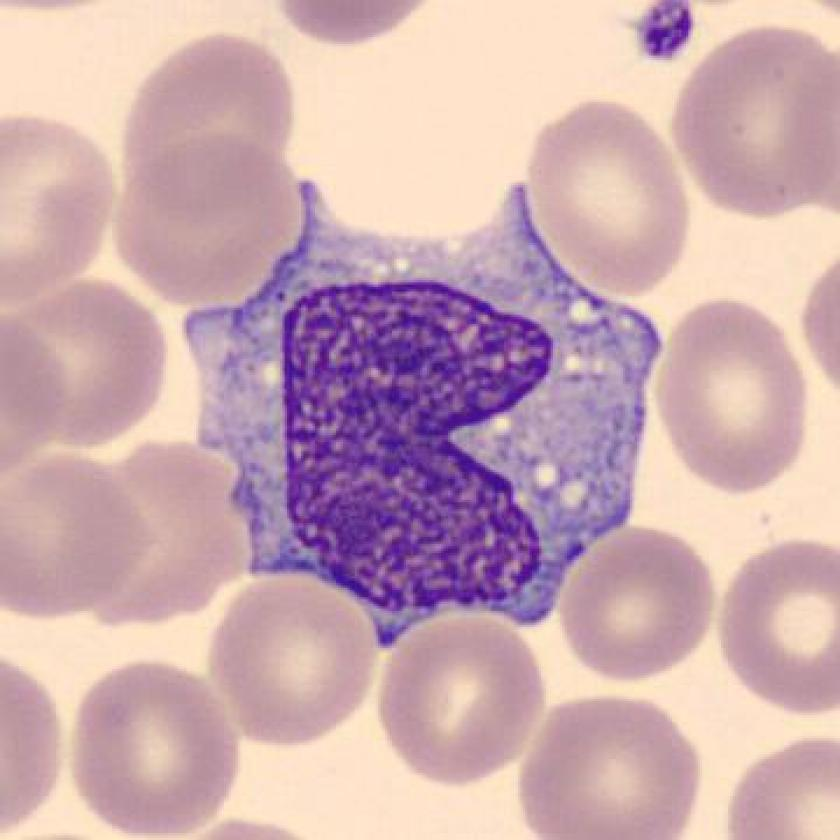monocyte: (176, 161, 673, 651)
